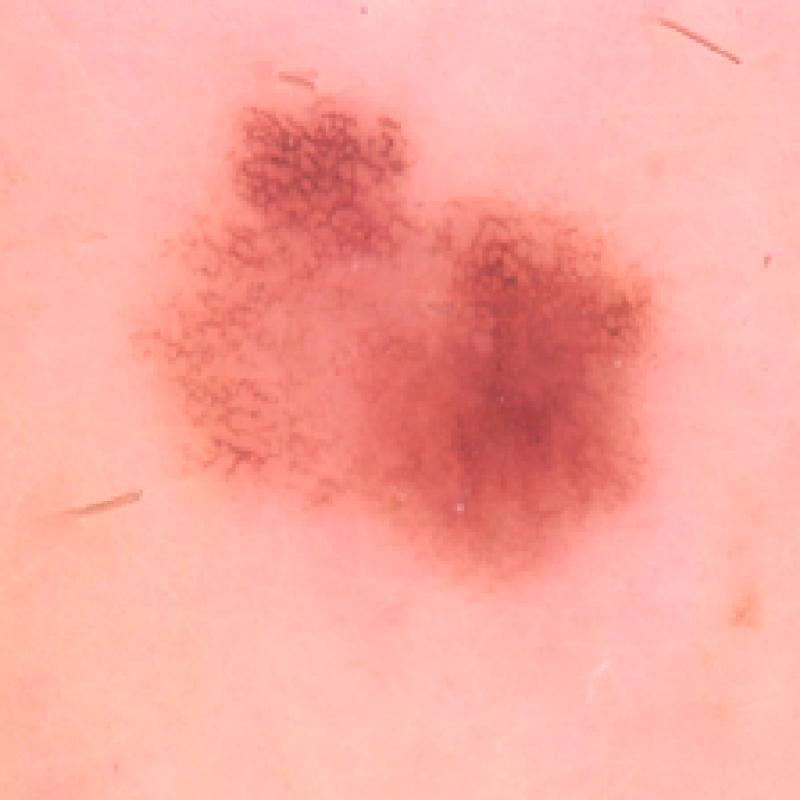benign: (151, 44, 672, 587)
